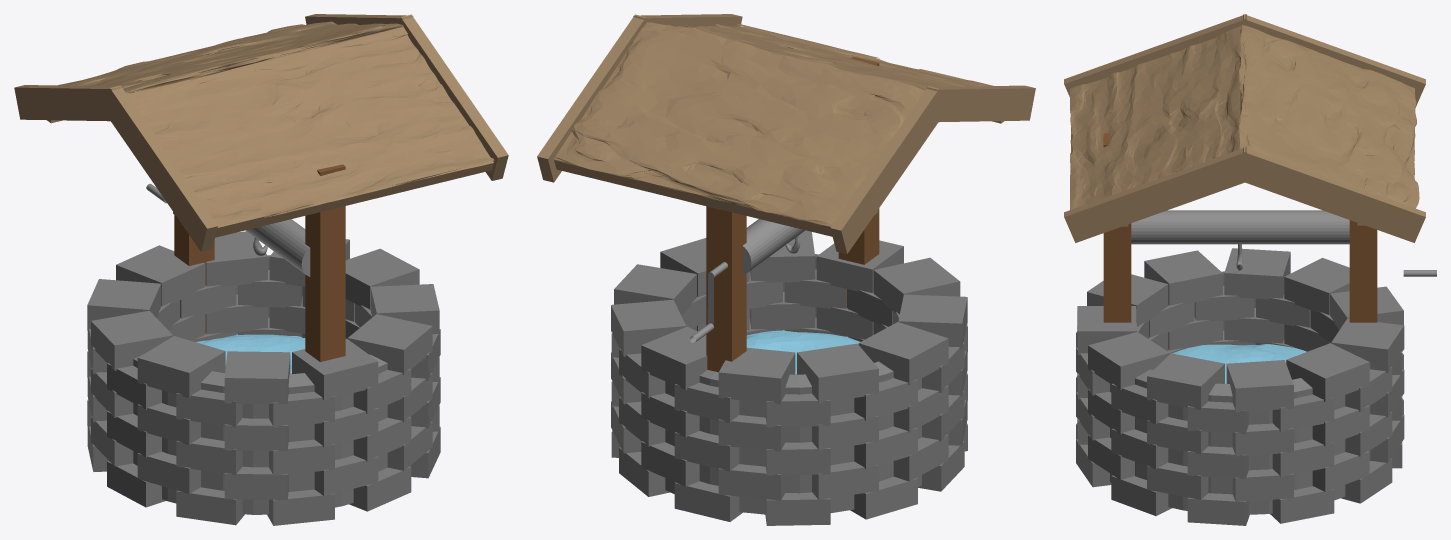
Rendered from колодец.fbx.
The picture shows the model from 3 angles, left to right: view 1: azimuth 30°, elevation 25°; view 2: azimuth 150°, elevation 25°; view 3: azimuth 270°, elevation 25°; orthographic projection. The views are drawn at different scales.
Parts seen in each view (by area): view 1: Cube.011, Cube.005, Cube.006, Cube.004, Cube.003, Cube.001, Cube.002, Cube.010, Cylinder, Cube.007, Cube.015, Cube.014 (+5 smaller); view 2: Cube.010, Cube.005, Cube.006, Cube.004, Cube.003, Cube.001, Cube.002, Cylinder, Cube.009, Cube.014, Cube.011, Cube.015 (+6 smaller); view 3: Cube.005, Cube.010, Cube.011, Cube.006, Cube.004, Cube.003, Cylinder.002, Cube.001, Cube.002, Cube.012, Cube.013, Cylinder (+5 smaller).
Boxes of the visible parts, x1=… form: Cube.011: x1=126, y1=27, x2=494, y2=237; Cube.005: x1=87, y1=231, x2=439, y2=404; Cube.006: x1=87, y1=270, x2=440, y2=427; Cube.004: x1=87, y1=294, x2=439, y2=451; Cube.003: x1=87, y1=317, x2=440, y2=475; Cube.001: x1=87, y1=426, x2=440, y2=525; Cube.002: x1=87, y1=399, x2=439, y2=499; Cube.010: x1=58, y1=21, x2=403, y2=94; Cylinder: x1=133, y1=255, x2=387, y2=514; Cube.007: x1=305, y1=164, x2=345, y2=361; Cube.015: x1=109, y1=85, x2=217, y2=251; Cube.014: x1=14, y1=85, x2=122, y2=121; Cube.010: x1=554, y1=22, x2=925, y2=236; Cube.005: x1=611, y1=230, x2=967, y2=403; Cube.006: x1=611, y1=254, x2=967, y2=427; Cube.004: x1=611, y1=292, x2=967, y2=451; Cube.003: x1=611, y1=317, x2=967, y2=475; Cube.001: x1=611, y1=423, x2=967, y2=525; Cube.002: x1=611, y1=400, x2=967, y2=500; Cylinder: x1=665, y1=254, x2=921, y2=514; Cube.009: x1=706, y1=206, x2=746, y2=372; Cube.014: x1=830, y1=86, x2=945, y2=253; Cube.011: x1=667, y1=24, x2=993, y2=90; Cube.015: x1=926, y1=85, x2=1035, y2=122; Cube.005: x1=1077, y1=248, x2=1404, y2=412; Cube.010: x1=1238, y1=25, x2=1419, y2=208; Cube.011: x1=1070, y1=26, x2=1241, y2=209; Cube.006: x1=1076, y1=271, x2=1402, y2=434; Cube.004: x1=1077, y1=308, x2=1404, y2=456; Cube.003: x1=1076, y1=330, x2=1402, y2=478; Cylinder.002: x1=1131, y1=210, x2=1349, y2=244; Cube.001: x1=1076, y1=423, x2=1402, y2=525; Cube.002: x1=1077, y1=398, x2=1404, y2=501; Cube.012: x1=1064, y1=147, x2=1257, y2=242; Cube.013: x1=1235, y1=147, x2=1425, y2=242; Cylinder: x1=1110, y1=272, x2=1370, y2=514.
Bounding box in the file's own units: 507 × 628 × 569.
